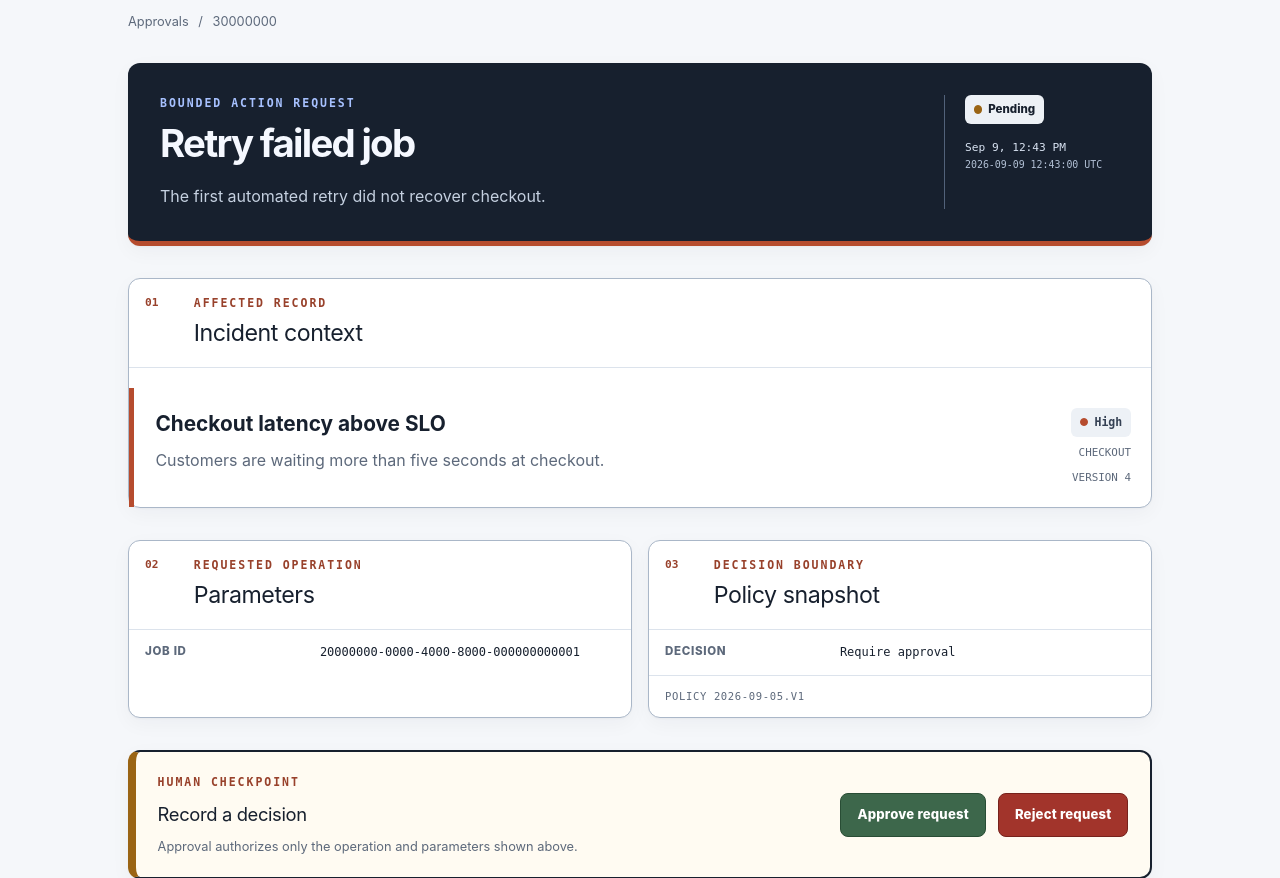
Scenario: ApprovalDetailScreen › approves through one idempotent mutation and replaces pending controls
Click the button "Approve request".
click(913, 815)  # box x1=840 y1=793 x2=986 y2=837
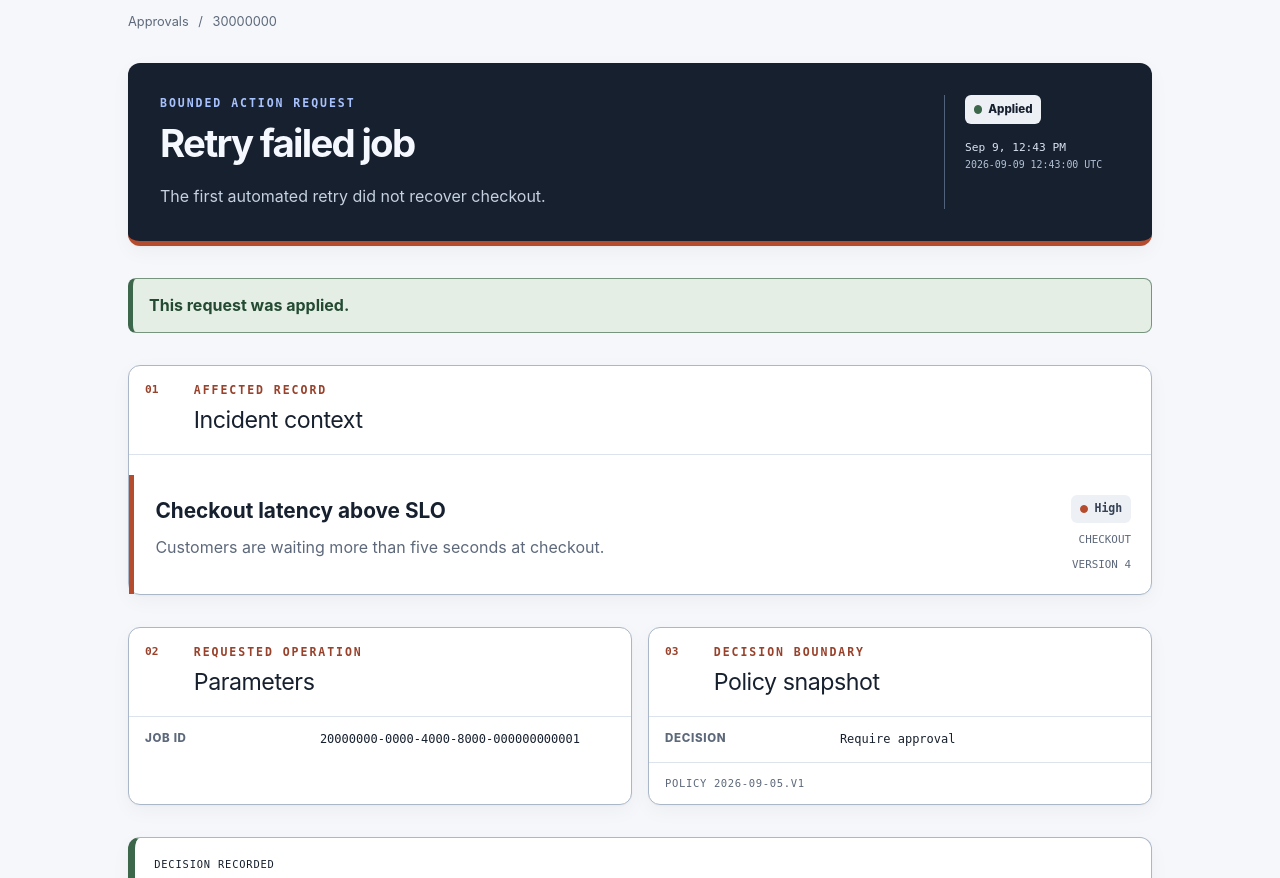
Check: the text "This request was applied." is shown, box x1=128 y1=278 x2=1152 y2=333
Check: the button "Approve request" is gone
